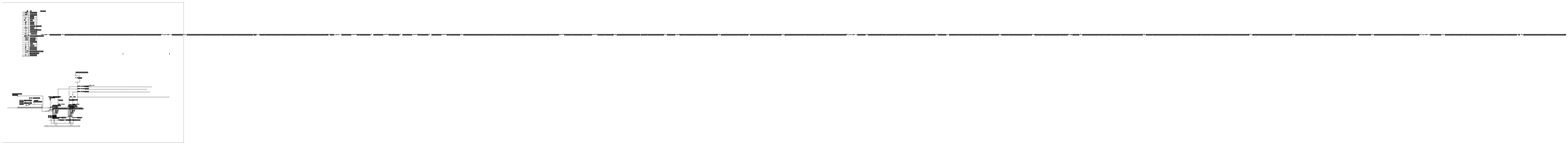door: (482, 47, 486, 49)
room: (172, 90, 299, 135), (625, 62, 668, 69)
wall: (0, 0, 1568, 145), (126, 36, 349, 48), (233, 40, 250, 46)
window: (203, 99, 205, 99), (198, 99, 200, 99)
